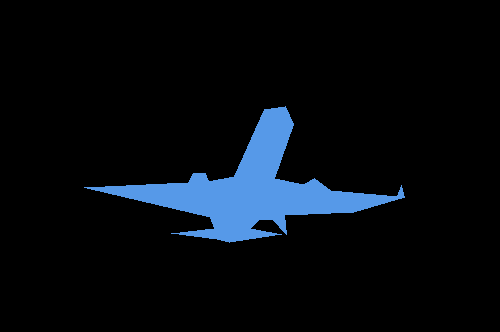Airplane: (84, 106, 405, 243)
